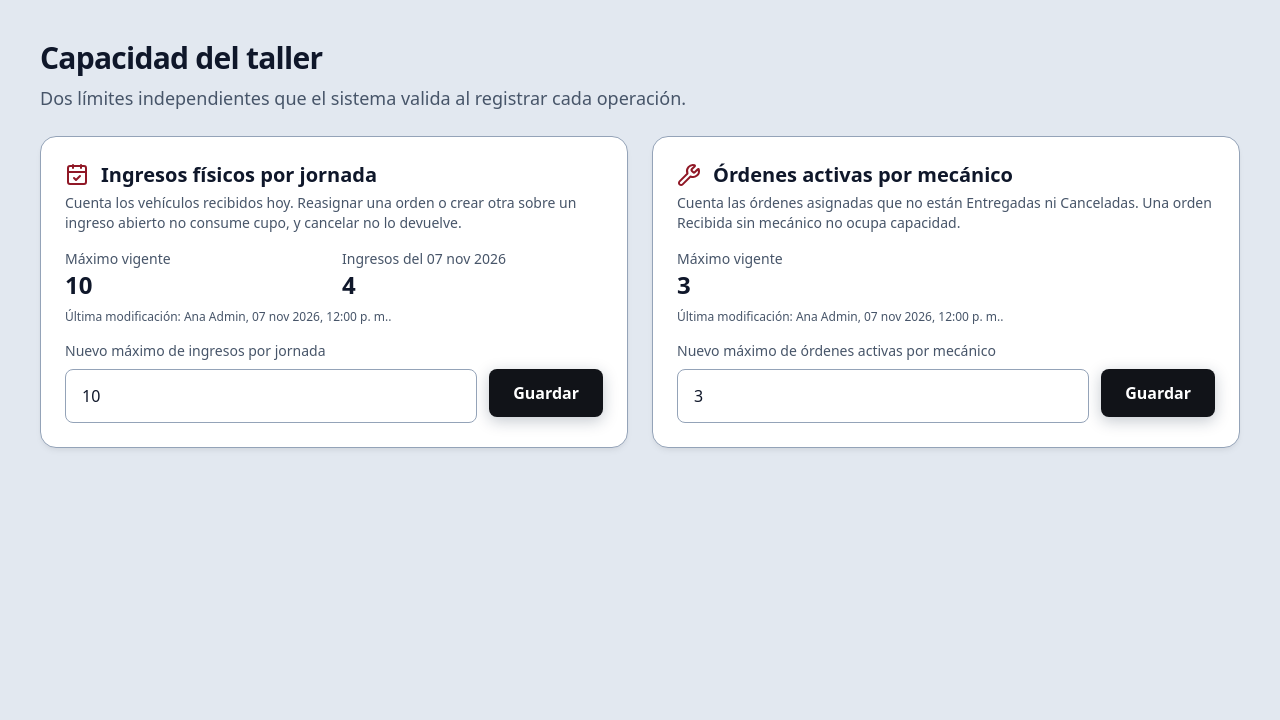
Test: AdminConfigurationPage: límites independientes del taller › guarda el cupo diario y refleja el valor devuelto por MS2
Replace the text in the number field labelled "Nuevo máximo de ingresos por jornada" with "2" at (271, 396), box [65, 369, 477, 423]
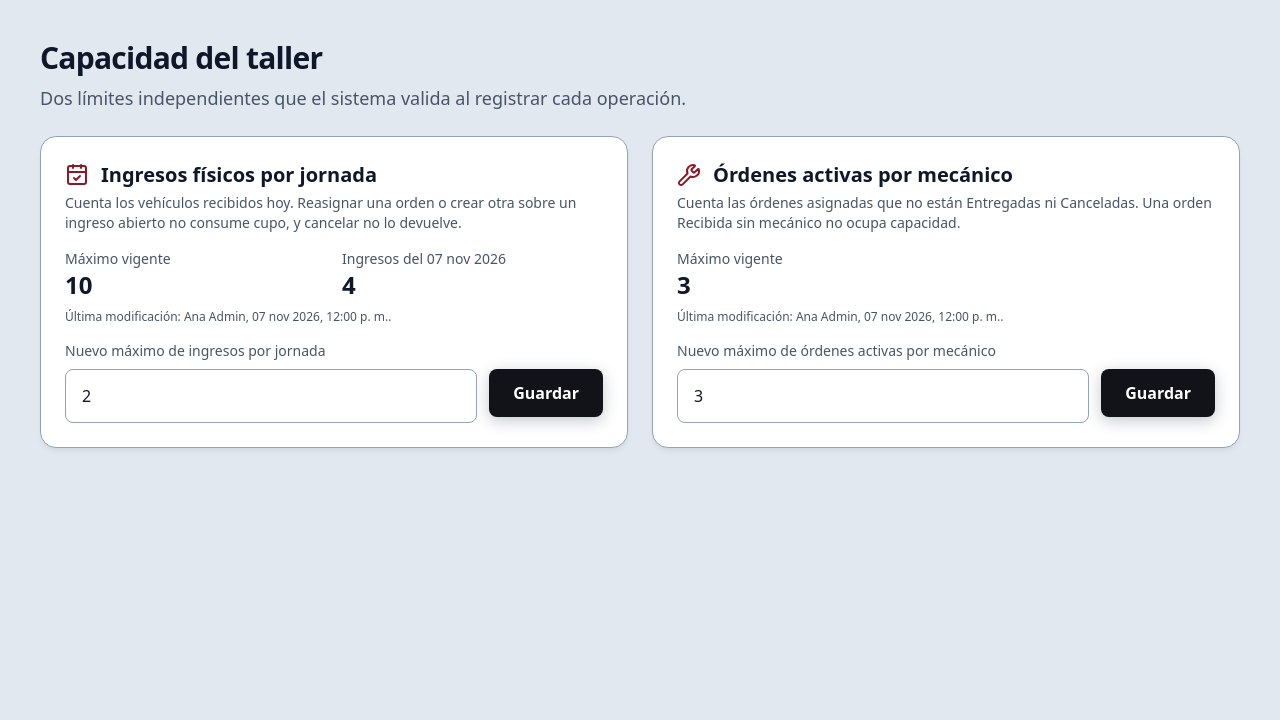
Click the button "Guardar" below "Nuevo máximo de ingresos por jornada" at (546, 393), box [489, 369, 603, 417]
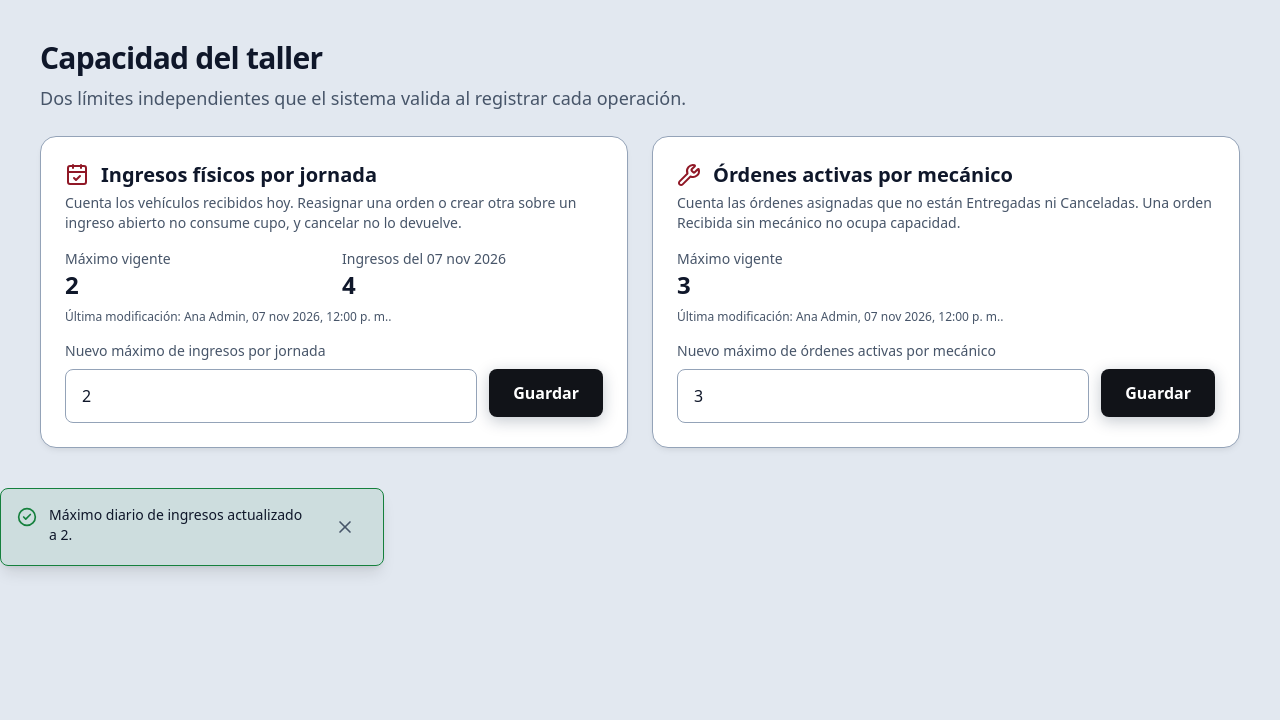
Result: the text "Máximo diario de ingresos actualizado a 2." is shown at [49, 505, 311, 545]
